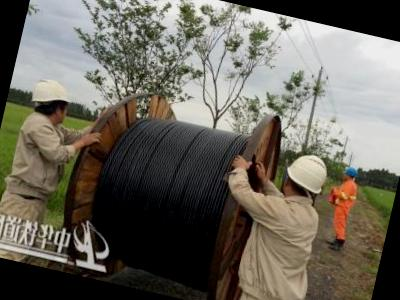person: (202, 139, 338, 300), (0, 73, 107, 271), (316, 164, 366, 254)
